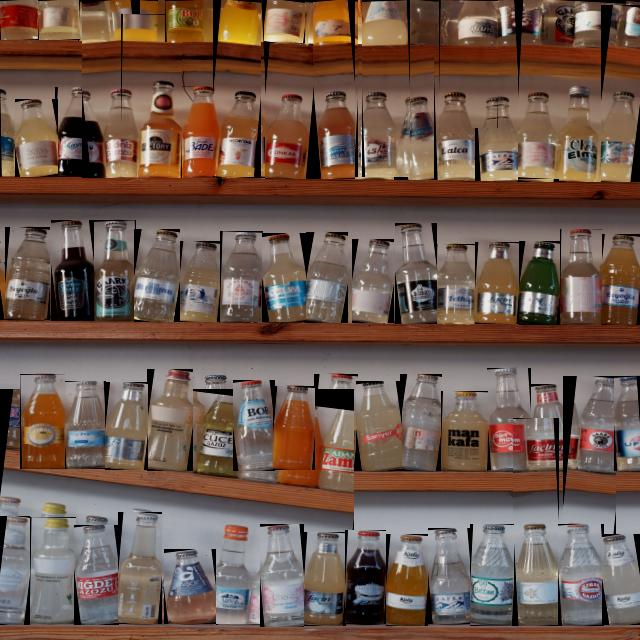Bottle: (118, 512, 162, 624), (30, 518, 76, 624), (217, 518, 260, 625), (514, 524, 559, 625), (260, 524, 304, 627), (148, 370, 193, 470), (470, 525, 514, 625), (488, 368, 531, 470), (75, 525, 119, 624), (93, 220, 136, 321), (560, 525, 603, 626), (51, 221, 94, 320), (395, 224, 437, 323), (6, 227, 50, 320), (21, 374, 64, 469), (315, 374, 357, 471), (572, 377, 615, 471), (357, 382, 402, 471), (135, 230, 179, 321), (401, 374, 442, 471), (560, 230, 602, 324), (140, 81, 181, 177), (429, 528, 470, 624), (262, 233, 306, 322), (304, 533, 346, 625), (55, 88, 98, 177), (181, 87, 223, 178), (306, 232, 348, 323), (560, 86, 600, 181), (233, 381, 275, 471), (386, 535, 428, 625), (517, 93, 559, 182), (346, 531, 386, 624), (165, 550, 215, 624), (221, 232, 262, 322), (106, 383, 148, 470), (270, 94, 313, 178), (98, 89, 139, 177), (224, 90, 265, 178), (435, 92, 476, 180), (65, 382, 106, 469), (442, 392, 487, 471), (274, 386, 316, 470), (531, 385, 572, 471), (600, 235, 639, 325), (314, 92, 354, 179), (353, 239, 394, 323), (519, 242, 561, 324), (476, 97, 517, 181), (476, 242, 518, 324), (179, 241, 221, 322), (602, 91, 639, 181), (14, 100, 57, 176), (0, 517, 30, 625), (395, 97, 434, 180), (603, 535, 639, 624), (437, 244, 476, 324), (615, 376, 639, 471), (363, 0, 410, 44), (407, 0, 449, 45), (457, 0, 498, 45), (498, 0, 538, 45), (570, 0, 609, 46), (317, 0, 357, 44), (265, 0, 305, 43), (165, 0, 204, 42), (213, 0, 252, 42), (0, 0, 40, 40), (39, 0, 79, 40), (0, 390, 20, 469), (119, 0, 157, 41), (79, 0, 117, 40), (539, 0, 571, 45), (609, 0, 639, 46), (0, 90, 15, 177), (0, 262, 8, 320)
